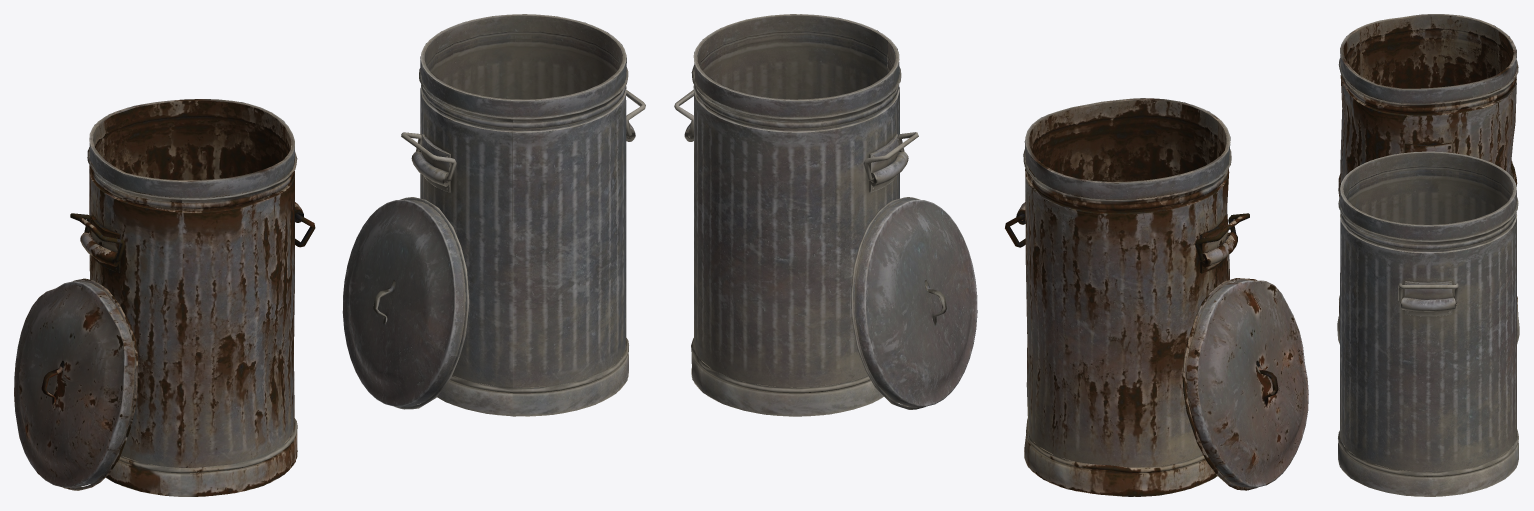
Rendered from metal_trash_can.glb.
3 views of the same model, side by side, from view 1: azimuth 30°, elevation 25°; view 2: azimuth 150°, elevation 25°; view 3: azimuth 270°, elevation 25° (orthographic). The views are drawn at different scales.
Parts seen in each view (by area): view 1: metal_trash_can.001; view 2: metal_trash_can.001; view 3: metal_trash_can.001.
Part boxes in pixels (box(x1,y1,x2,y2)): metal_trash_can.001: box(14, 14, 645, 496); metal_trash_can.001: box(674, 14, 1308, 496); metal_trash_can.001: box(1337, 14, 1519, 496).
Bounding box in the file's own units: 1.78 × 0.9063 × 0.5557.
Materials: 3 (3 with a texture image).
